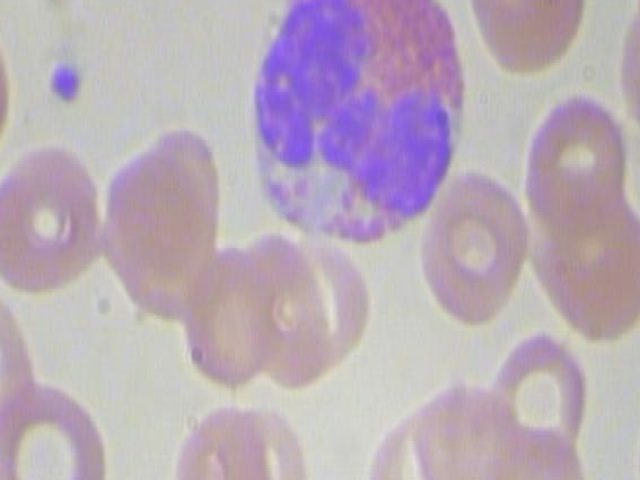Platelets: (46, 47, 84, 110)
RBC: (0, 134, 110, 307), (417, 169, 532, 327), (172, 238, 285, 390), (0, 369, 105, 480), (461, 0, 594, 82), (413, 379, 519, 480), (162, 396, 277, 480), (219, 393, 315, 480), (478, 412, 593, 480), (0, 280, 43, 425)
WBC: (247, 0, 471, 261)
